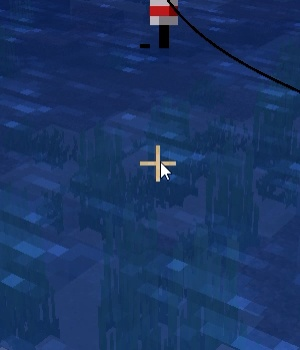up: (140, 1, 181, 58)
